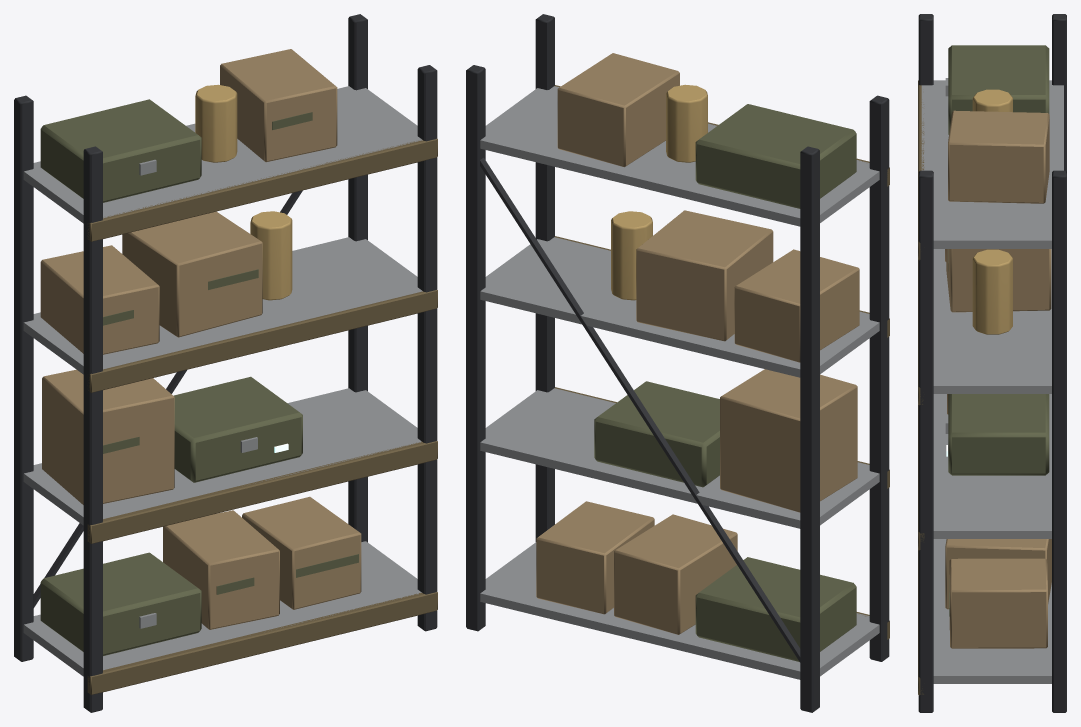
The model's file is int_shelf.glb.
3 renders of one model, left to right at view 1: azimuth 30°, elevation 25°; view 2: azimuth 150°, elevation 25°; view 3: azimuth 270°, elevation 25°, orthographic. The views are drawn at different scales.
Parts seen in each view (by area): view 1: kit_int_shelf_card, kit_int_shelf_metal, kit_int_shelf_dark_metal, kit_int_shelf_case_paint, kit_int_shelf_paint, kit_int_shelf_trim_metal; view 2: kit_int_shelf_card, kit_int_shelf_metal, kit_int_shelf_dark_metal, kit_int_shelf_case_paint, kit_int_shelf_trim_metal; view 3: kit_int_shelf_metal, kit_int_shelf_card, kit_int_shelf_dark_metal, kit_int_shelf_case_paint, kit_int_shelf_trim_metal, kit_int_shelf_paint.
Boxes of the visible parts, left/top/right/bottom form: kit_int_shelf_card: left=40, top=49, right=361, bottom=629; kit_int_shelf_metal: left=23, top=86, right=422, bottom=676; kit_int_shelf_dark_metal: left=14, top=14, right=437, bottom=712; kit_int_shelf_case_paint: left=40, top=99, right=358, bottom=655; kit_int_shelf_paint: left=87, top=138, right=437, bottom=694; kit_int_shelf_trim_metal: left=195, top=84, right=292, bottom=300; kit_int_shelf_card: left=536, top=53, right=859, bottom=634; kit_int_shelf_metal: left=480, top=86, right=879, bottom=679; kit_int_shelf_dark_metal: left=466, top=14, right=889, bottom=712; kit_int_shelf_case_paint: left=594, top=104, right=856, bottom=661; kit_int_shelf_trim_metal: left=611, top=84, right=707, bottom=300; kit_int_shelf_metal: left=921, top=78, right=1063, bottom=683; kit_int_shelf_card: left=945, top=110, right=1051, bottom=648; kit_int_shelf_dark_metal: left=918, top=14, right=1066, bottom=712; kit_int_shelf_case_paint: left=948, top=45, right=1049, bottom=616; kit_int_shelf_trim_metal: left=972, top=89, right=1012, bottom=334; kit_int_shelf_paint: left=918, top=80, right=924, bottom=695.
Size of the model in its own units: 1.3 by 2 by 0.5025.
